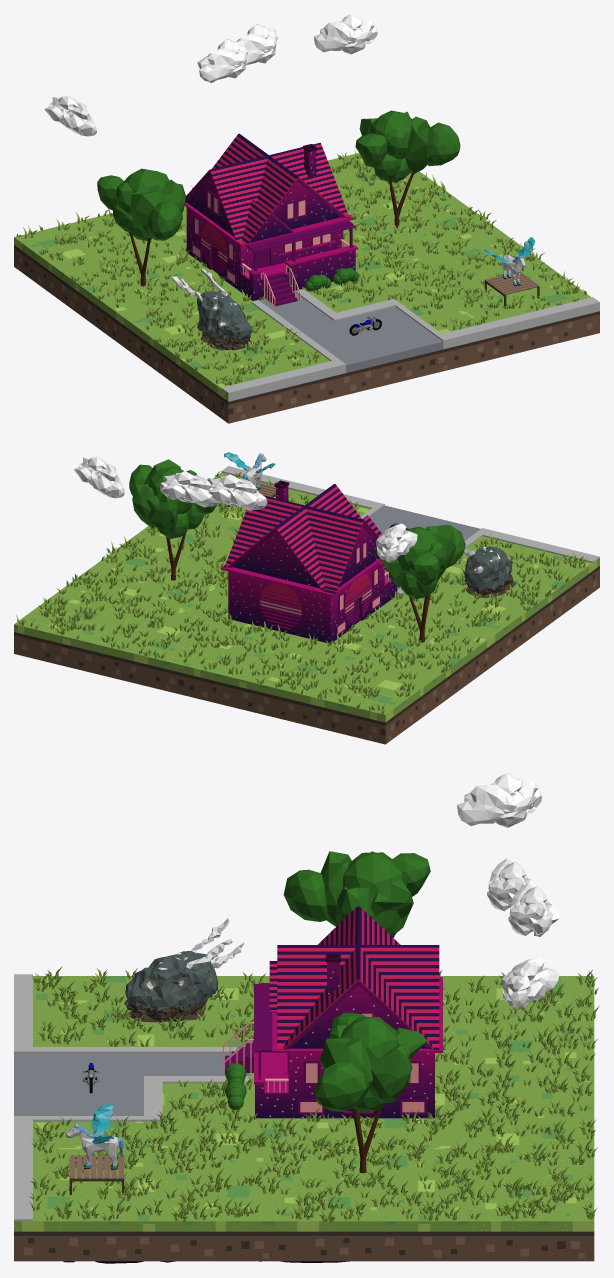
3 renders of one model, top to bottom at view 1: azimuth 30°, elevation 25°; view 2: azimuth 150°, elevation 25°; view 3: azimuth 270°, elevation 25°, orthographic. The views are drawn at different scales.
Visible parts, largest first — view 1: Cube.006, Cube.156, Circle.012_Grass_0.192, Cube.007, tree, tree.001, OBJRANDOM_METEORITE, ANIMAL_PEGASO, Cube.009; view 2: Cube.006, Cube.156, Circle.012_Grass_0.192, Cube.007, tree.001, tree, OBJRANDOM_METEORITE, ANIMAL_PEGASO; view 3: Cube.006, Circle.012_Grass_0.192, Cube.156, tree, Cube.007, tree.001, OBJRANDOM_METEORITE, ANIMAL_PEGASO, Cube.009.
Boxes of the visible parts, left/top/right/bottom form: Cube.006: left=14, top=153, right=599, bottom=423; Cube.156: left=184, top=133, right=358, bottom=307; Circle.012_Grass_0.192: left=16, top=150, right=586, bottom=385; Cube.007: left=44, top=14, right=377, bottom=136; tree: left=355, top=110, right=460, bottom=227; tree.001: left=97, top=168, right=185, bottom=286; OBJRANDOM_METEORITE: left=171, top=268, right=252, bottom=350; ANIMAL_PEGASO: left=483, top=237, right=535, bottom=286; Cube.009: left=484, top=272, right=539, bottom=306; Cube.006: left=14, top=466, right=599, bottom=744; Cube.156: left=220, top=480, right=397, bottom=643; Circle.012_Grass_0.192: left=16, top=471, right=586, bottom=713; Cube.007: left=74, top=456, right=417, bottom=562; tree.001: left=373, top=524, right=465, bottom=642; tree: left=129, top=459, right=216, bottom=580; OBJRANDOM_METEORITE: left=463, top=546, right=514, bottom=598; ANIMAL_PEGASO: left=224, top=452, right=275, bottom=489; Cube.006: left=14, top=974, right=594, bottom=1261; Circle.012_Grass_0.192: left=29, top=967, right=599, bottom=1222; Cube.156: left=222, top=906, right=442, bottom=1118; tree: left=314, top=1012, right=427, bottom=1173; Cube.007: left=457, top=773, right=559, bottom=1009; tree.001: left=283, top=851, right=430, bottom=937; OBJRANDOM_METEORITE: left=124, top=918, right=244, bottom=1022; ANIMAL_PEGASO: left=66, top=1104, right=123, bottom=1169; Cube.009: left=69, top=1154, right=123, bottom=1194.
Bounding box in the file's own units: 4071 × 2149 × 4040.
33 materials, 5 textured.
